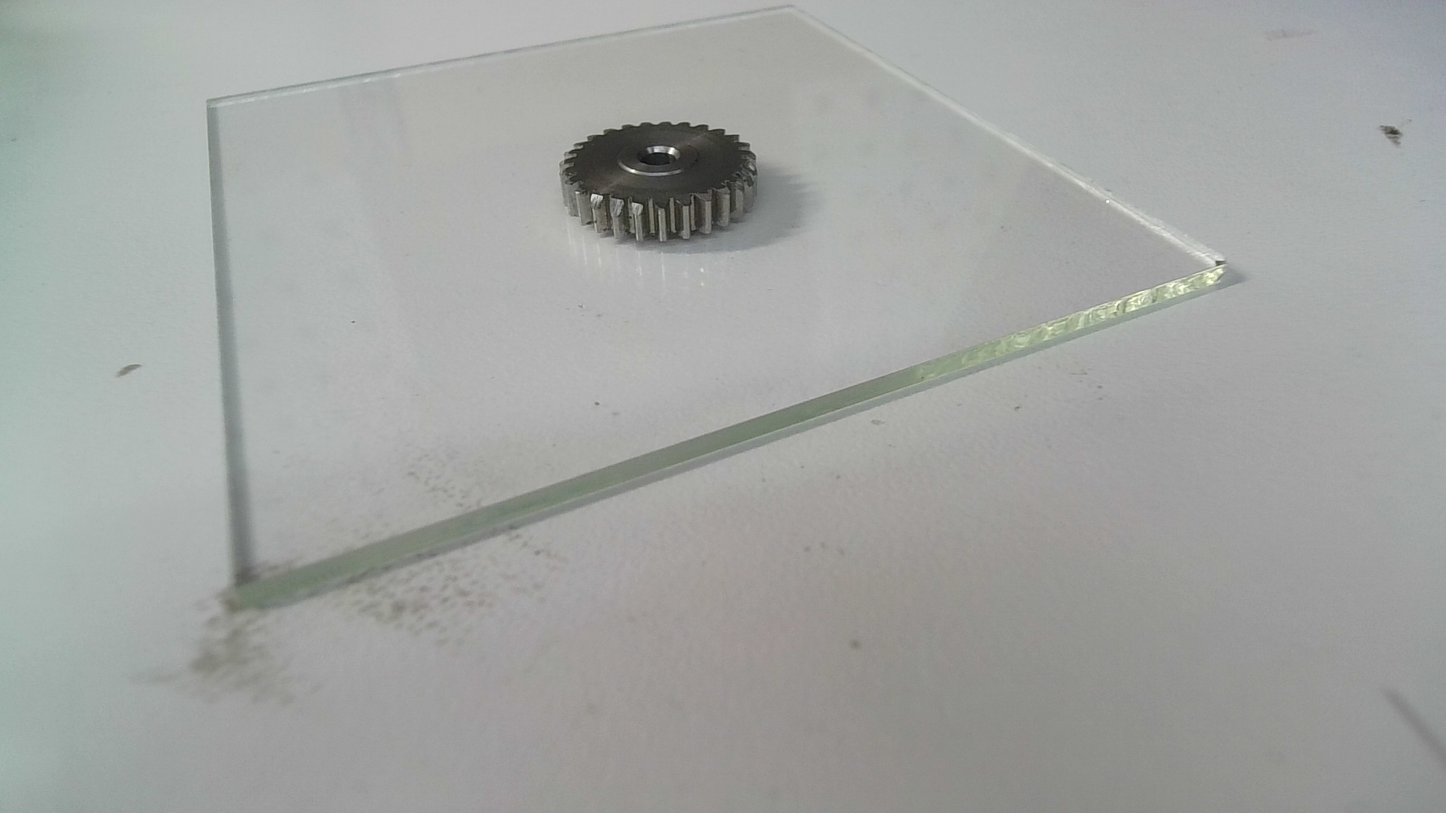gear: (556, 120, 763, 250)
